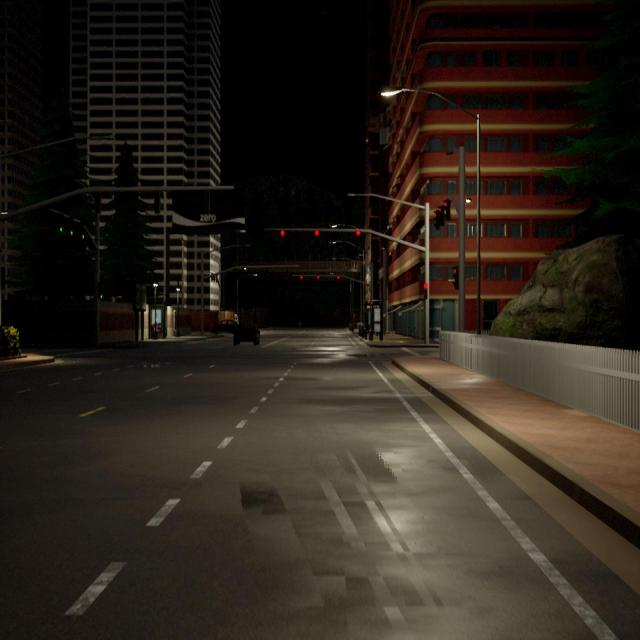Vehicle: (233, 321, 260, 346), (212, 319, 238, 334)
traffic_light: (432, 198, 456, 232), (452, 264, 461, 292), (422, 282, 429, 301), (99, 284, 104, 300), (59, 214, 63, 232), (70, 218, 74, 235), (82, 224, 85, 238), (356, 229, 361, 236), (315, 229, 319, 236), (281, 230, 285, 236), (317, 276, 320, 280), (337, 276, 340, 280), (300, 276, 303, 279)
